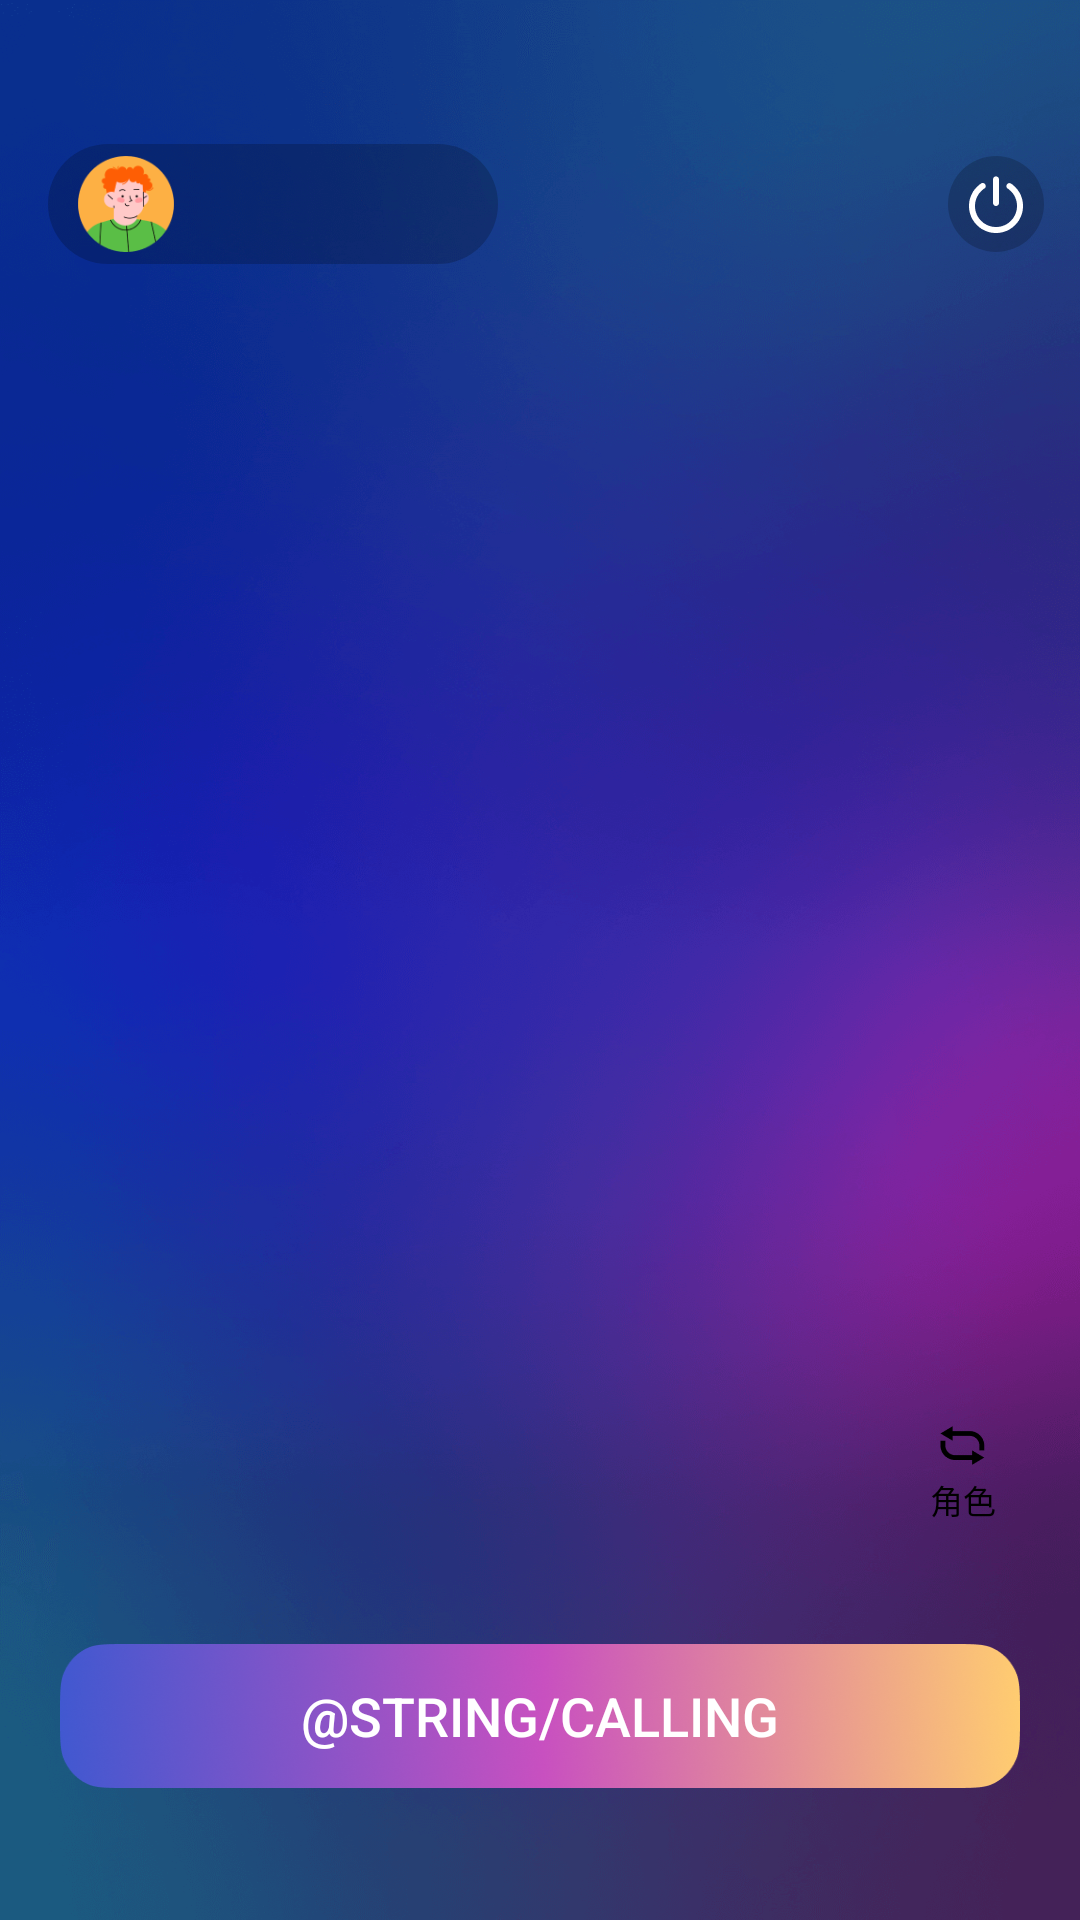

Where to tap for icons on this 1080×1920 app screen, as (x,y):
exit: (996,204)
